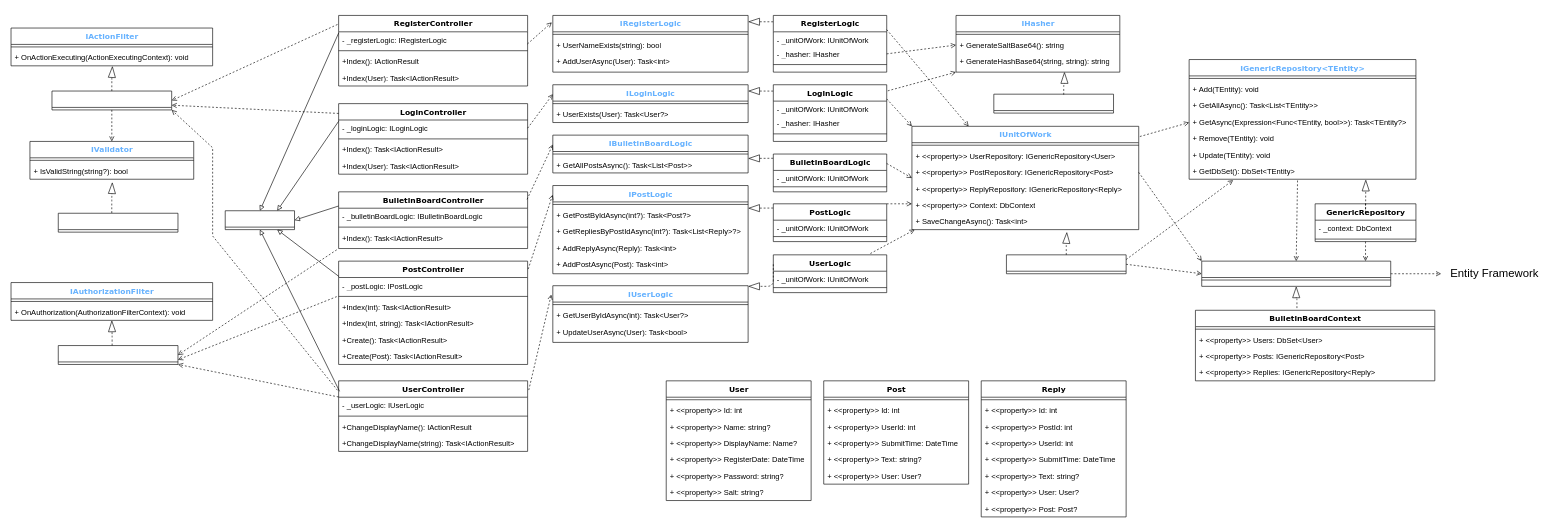
Image size: 1553x530. Some labels were removed from this diagram. Here are the shapes that lost their labels. From the top down, the centre of each, then its label:
At (x=111, y=100): "FormValidationAttribute".
At (x=1053, y=103): "Hasher".
At (x=118, y=222): "Validator".
At (x=260, y=220): "Controller".
At (x=1066, y=264): "UnitOfWork".
At (x=1296, y=273): "DBContext".
At (x=118, y=354): "AuthorizationAttribute".
